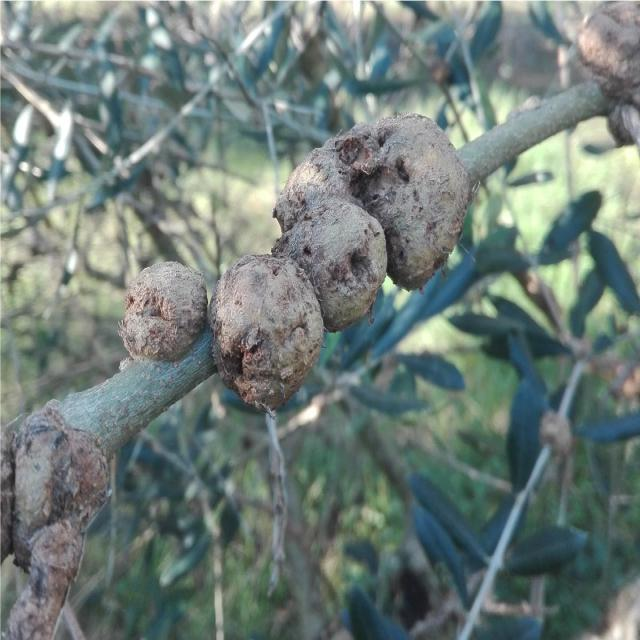Tuberculosis: (211, 113, 473, 417), (0, 400, 109, 639), (119, 262, 207, 360)
